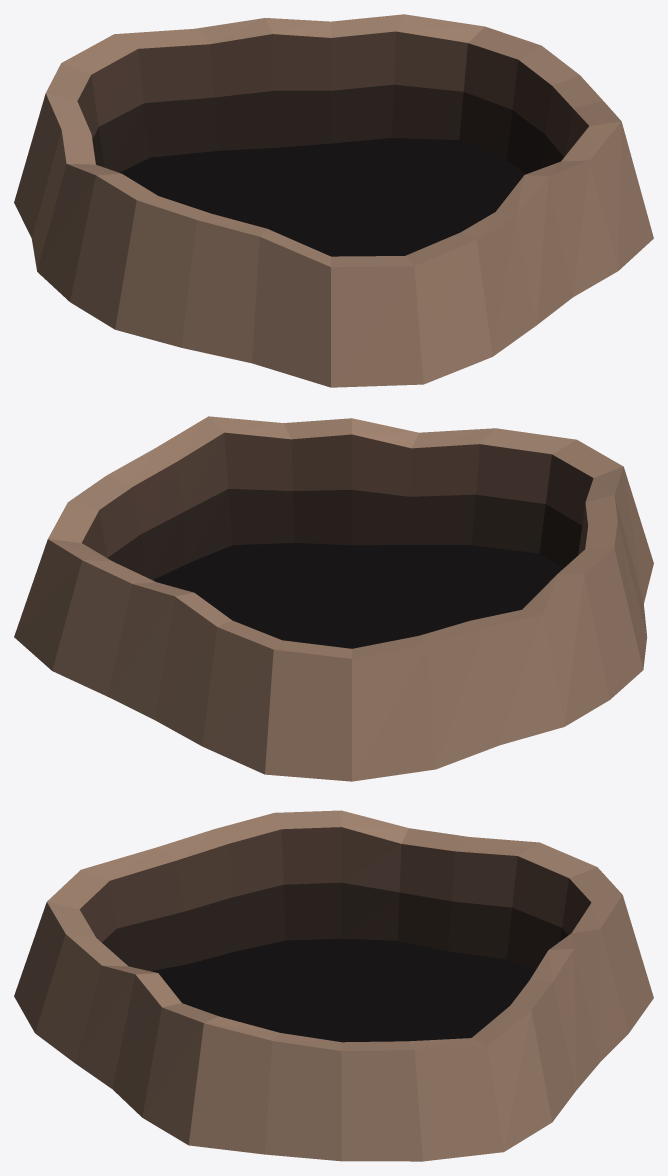
The model's file is pit_burrow.obj.
The picture shows the model from 3 angles, top to bottom: view 1: azimuth 30°, elevation 25°; view 2: azimuth 150°, elevation 25°; view 3: azimuth 270°, elevation 25°; orthographic projection. The views are drawn at different scales.
Visible parts, largest first — view 1: pit_burrow_1, pit_burrow_4, pit_burrow_2, pit_burrow_3; view 2: pit_burrow_1, pit_burrow_4, pit_burrow_2, pit_burrow_3; view 3: pit_burrow_1, pit_burrow_4, pit_burrow_2, pit_burrow_3.
Part boxes in pixels (x1=…): pit_burrow_1: x1=14, y1=14, x2=653, y2=387; pit_burrow_4: x1=119, y1=138, x2=525, y2=256; pit_burrow_2: x1=77, y1=31, x2=588, y2=163; pit_burrow_3: x1=92, y1=84, x2=564, y2=174; pit_burrow_1: x1=14, y1=416, x2=653, y2=781; pit_burrow_4: x1=153, y1=543, x2=563, y2=648; pit_burrow_2: x1=82, y1=432, x2=593, y2=557; pit_burrow_3: x1=107, y1=488, x2=582, y2=580; pit_burrow_1: x1=14, y1=810, x2=653, y2=1161; pit_burrow_4: x1=151, y1=938, x2=535, y2=1042; pit_burrow_2: x1=79, y1=827, x2=591, y2=942; pit_burrow_3: x1=102, y1=882, x2=568, y2=971.
Bounding box in the file's own units: 2.57 × 0.5498 × 2.79.
